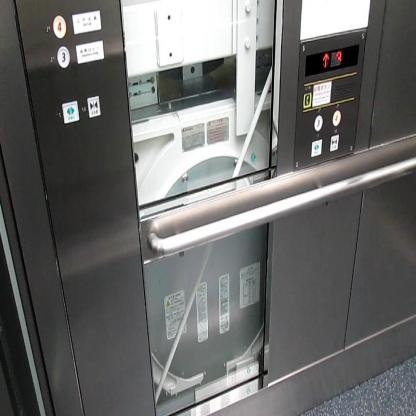3: (56, 42, 70, 68), (313, 113, 324, 132)
4: (52, 14, 67, 39), (332, 108, 341, 127)
call: (302, 91, 312, 108)
close: (86, 93, 102, 118), (328, 131, 340, 152)
led: (304, 44, 359, 76)
open: (61, 98, 80, 125), (310, 136, 323, 158)
